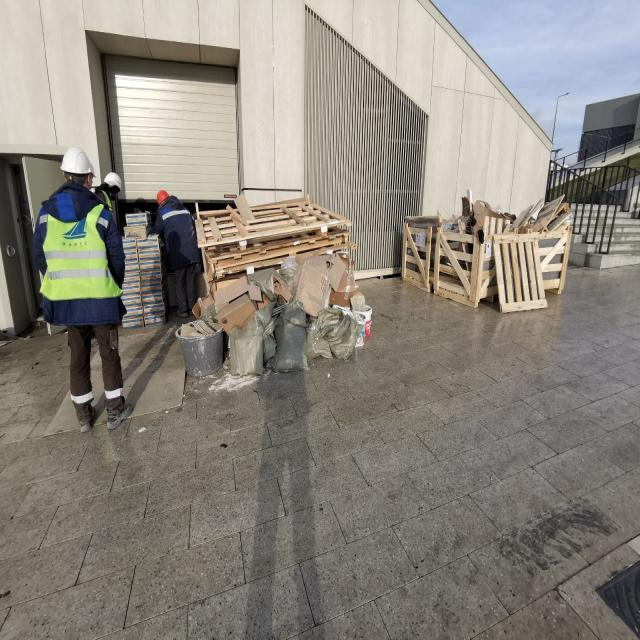Helmet: (61, 151, 93, 178), (105, 173, 124, 191), (157, 191, 171, 205)
Jacket: (46, 191, 107, 310)
NoJacket: (158, 206, 195, 259)
